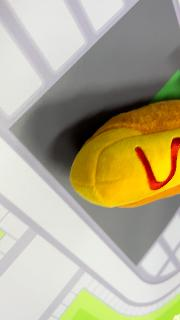hotdog: (69, 99, 179, 209)
